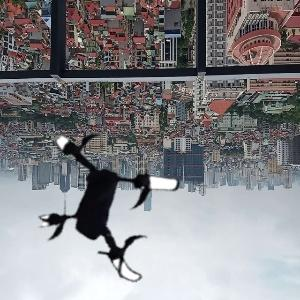drone: (30, 121, 199, 290)
